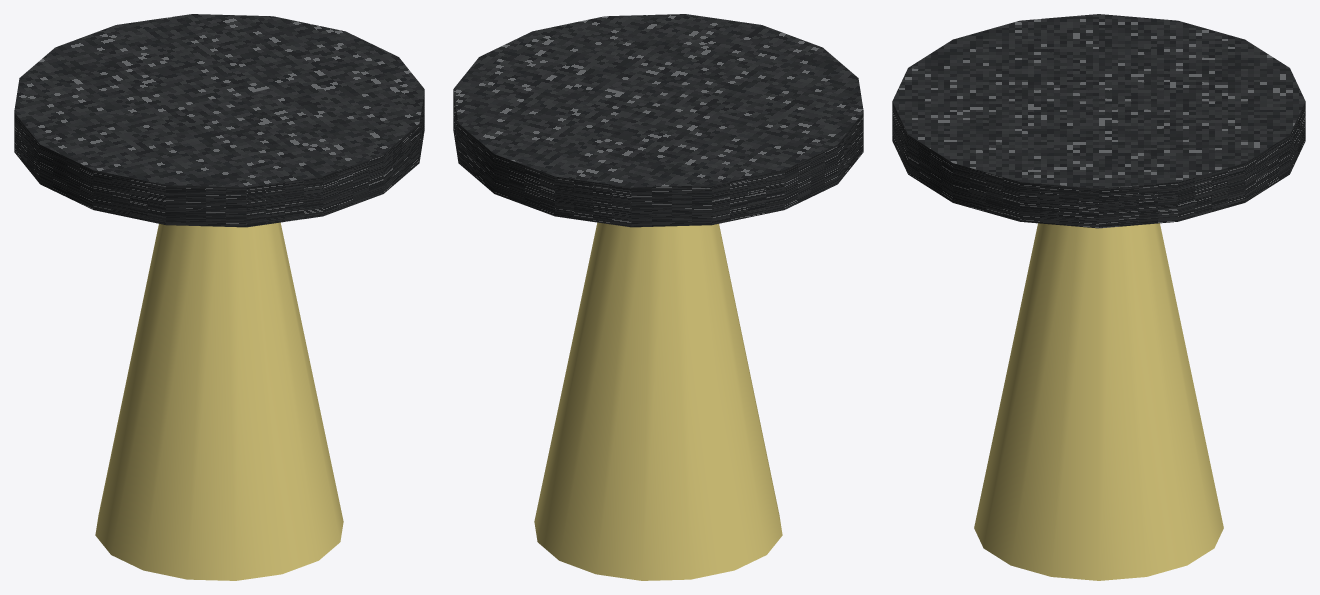
File: side_table_granite.glb
The picture shows the model from 3 angles, left to right: view 1: azimuth 30°, elevation 25°; view 2: azimuth 150°, elevation 25°; view 3: azimuth 270°, elevation 25°; orthographic projection.
Visible parts, largest first — view 1: side_table_granite_blackGranite, side_table_granite_metalBrass; view 2: side_table_granite_blackGranite, side_table_granite_metalBrass; view 3: side_table_granite_blackGranite, side_table_granite_metalBrass.
Boxes of the visible parts, box(x1,y1,x2,y2) form: side_table_granite_blackGranite: box(14, 14, 424, 227); side_table_granite_metalBrass: box(95, 222, 343, 580); side_table_granite_blackGranite: box(453, 14, 863, 227); side_table_granite_metalBrass: box(534, 222, 782, 580); side_table_granite_blackGranite: box(892, 14, 1305, 228); side_table_granite_metalBrass: box(974, 223, 1223, 580).
Size of what is drawn, in the model's own units: 0.43 by 0.49 by 0.43.
Materials: 2 (1 with a texture image).
